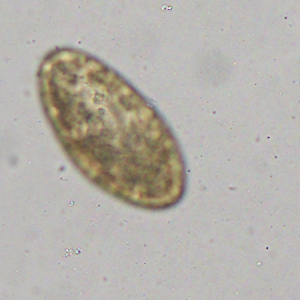Fasciola_hepatica_egg: (35, 45, 187, 211)
